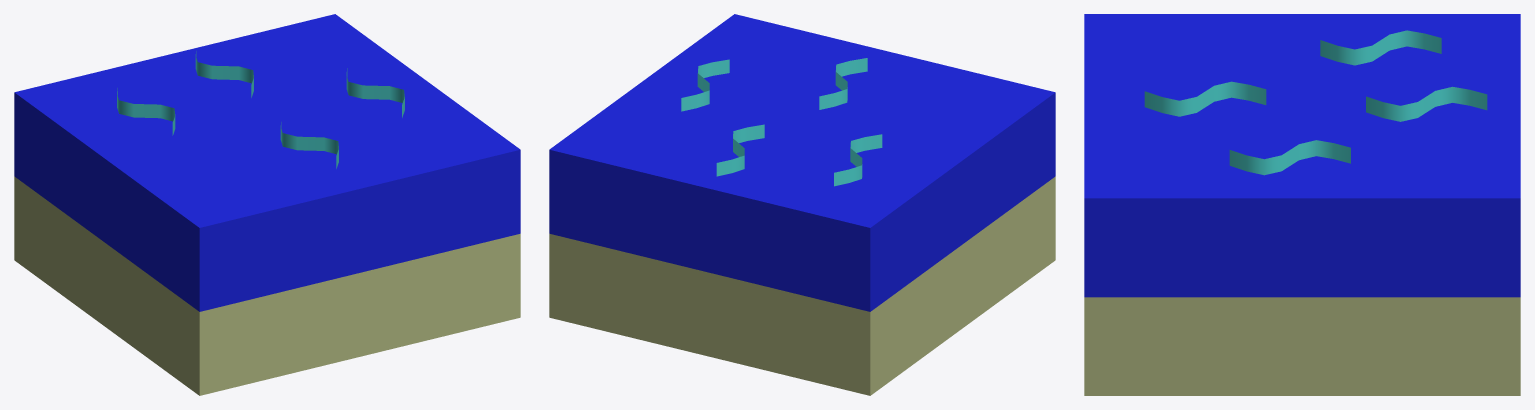
The model's file is waves.glb.
3 renders of one model, left to right at view 1: azimuth 30°, elevation 25°; view 2: azimuth 150°, elevation 25°; view 3: azimuth 270°, elevation 25°, orthographic. The views are drawn at different scales.
Visible parts, largest first — view 1: Waves; view 2: Waves; view 3: Waves.
Boxes of the visible parts, x1=… form: Waves: x1=14, y1=14, x2=520, y2=395; Waves: x1=549, y1=14, x2=1055, y2=395; Waves: x1=1084, y1=14, x2=1520, y2=395.
Size of the model in its own units: 2 by 1.08 by 2.
